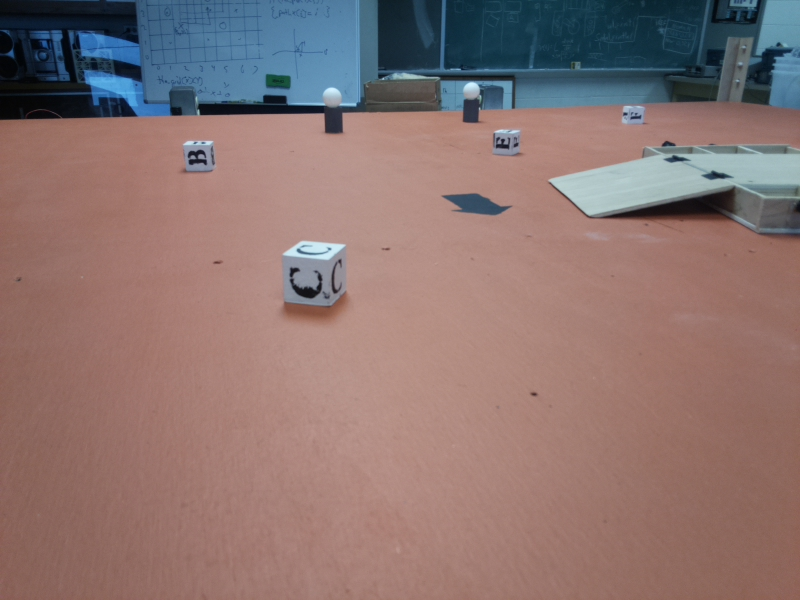blockB: (180, 139, 219, 173)
blockC: (275, 238, 349, 313)
blockE: (490, 128, 526, 159)
blockF: (622, 104, 647, 124)
corner: (717, 37, 755, 103)
obstacle: (322, 86, 345, 137), (458, 83, 483, 123)
slope: (549, 153, 733, 221)
start: (441, 188, 513, 217)
